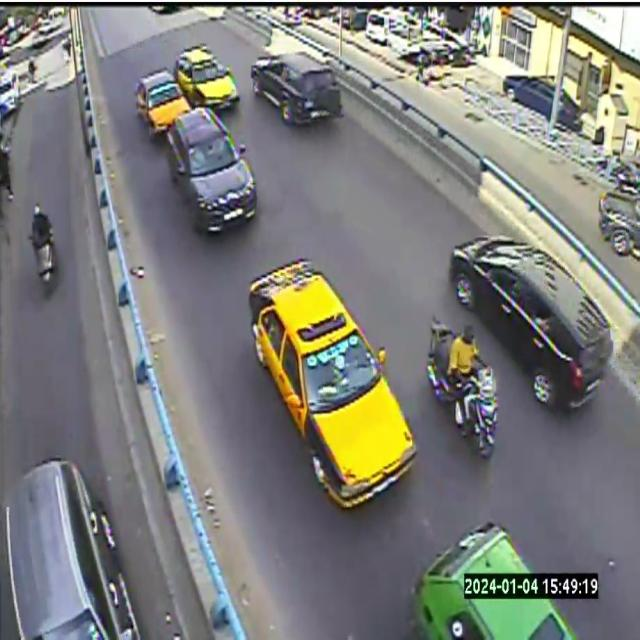car: (249, 259, 416, 507), (448, 236, 613, 410), (414, 521, 577, 639), (167, 107, 256, 231), (250, 52, 343, 124), (174, 44, 239, 109), (136, 68, 191, 137)
